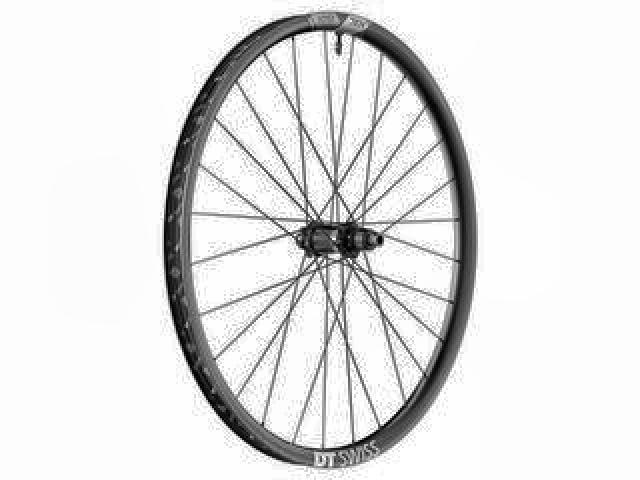wheel: (162, 7, 481, 472)
